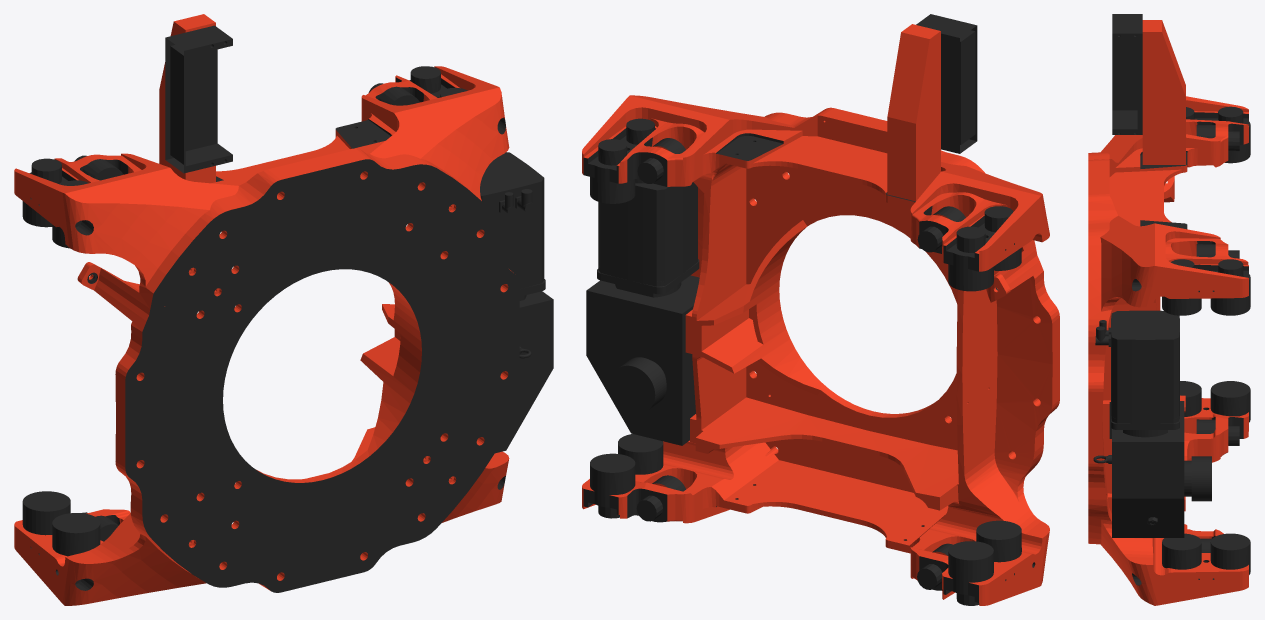
File: LinearMoveCarriage.obj
The picture shows the model from 3 angles, left to right: view 1: azimuth 30°, elevation 25°; view 2: azimuth 150°, elevation 25°; view 3: azimuth 270°, elevation 25°; orthographic projection. The views are drawn at different scales.
Size of the model in its own units: 1.22 by 1.4 by 0.449.
